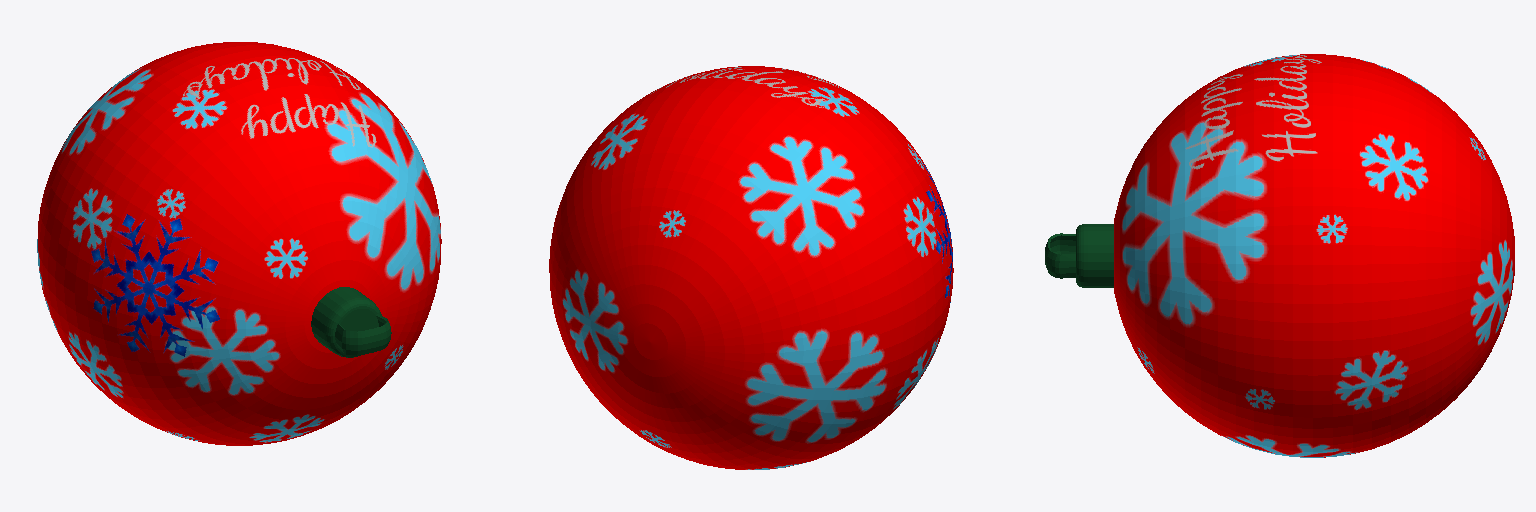
3 renders of one model, left to right at view 1: azimuth 30°, elevation 25°; view 2: azimuth 150°, elevation 25°; view 3: azimuth 270°, elevation 25°, orthographic.
Parts seen in each view (by area): view 1: Ornament__0; view 2: Ornament__0; view 3: Ornament__0.
Part boxes in pixels (bbox=[...]): Ornament__0: bbox=[37, 42, 441, 445]; Ornament__0: bbox=[549, 66, 953, 469]; Ornament__0: bbox=[1045, 54, 1514, 457].
Bounding box in the file's own units: 0.1 × 0.1 × 0.1164.
1 materials, 1 textured.